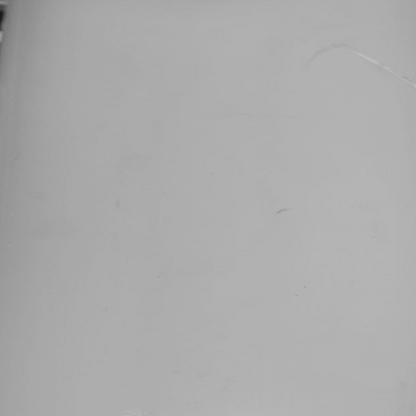sunshang: (306, 41, 416, 93)
